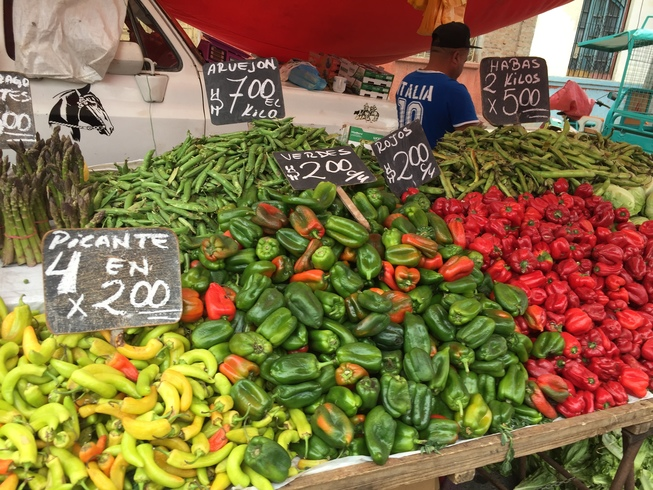precio: (37, 219, 194, 338), (475, 49, 554, 136), (367, 119, 450, 201), (265, 142, 382, 199), (203, 58, 289, 127), (1, 68, 42, 158)
